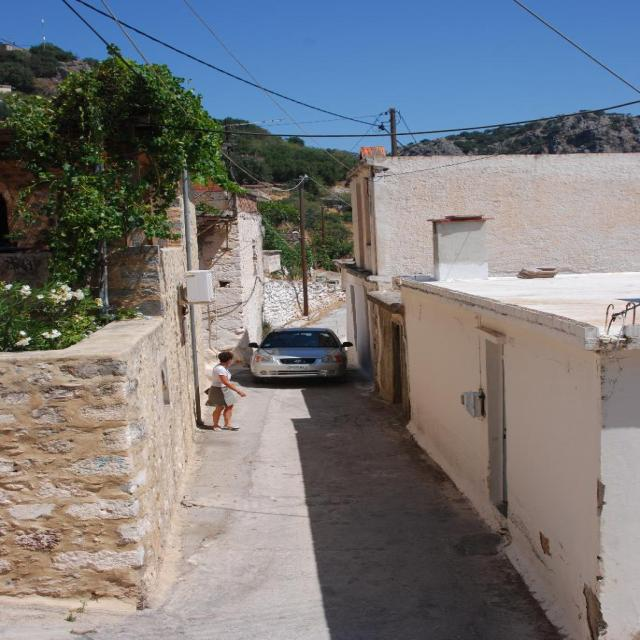car: (247, 327, 351, 382)
